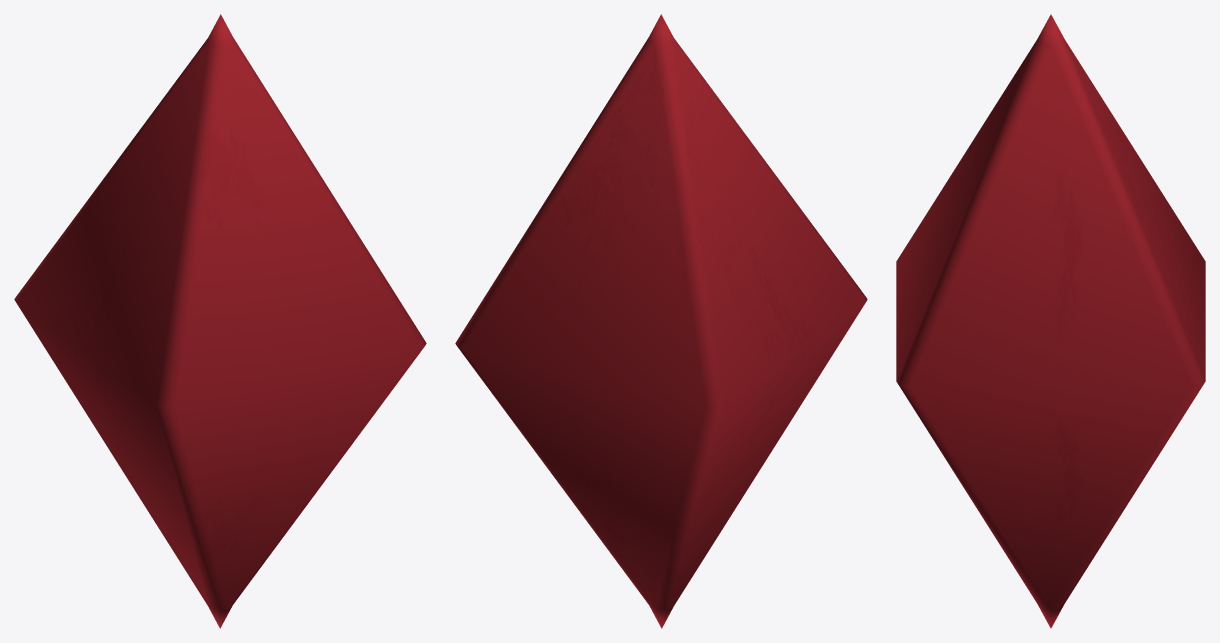
The model's file is SorcererExperimenting.fbx.
3 renders of one model, left to right at view 1: azimuth 30°, elevation 25°; view 2: azimuth 150°, elevation 25°; view 3: azimuth 270°, elevation 25°, orthographic.
Visible parts, largest first — view 1: ImpSorcererPortalCrystalSingular; view 2: ImpSorcererPortalCrystalSingular; view 3: ImpSorcererPortalCrystalSingular.
Part boxes in pixels (x1,y1,x2,y2): ImpSorcererPortalCrystalSingular: (14,14,426,628); ImpSorcererPortalCrystalSingular: (455,14,867,628); ImpSorcererPortalCrystalSingular: (896,14,1205,628).
Bounding box in the file's own units: 19.36 × 42.46 × 19.36.
